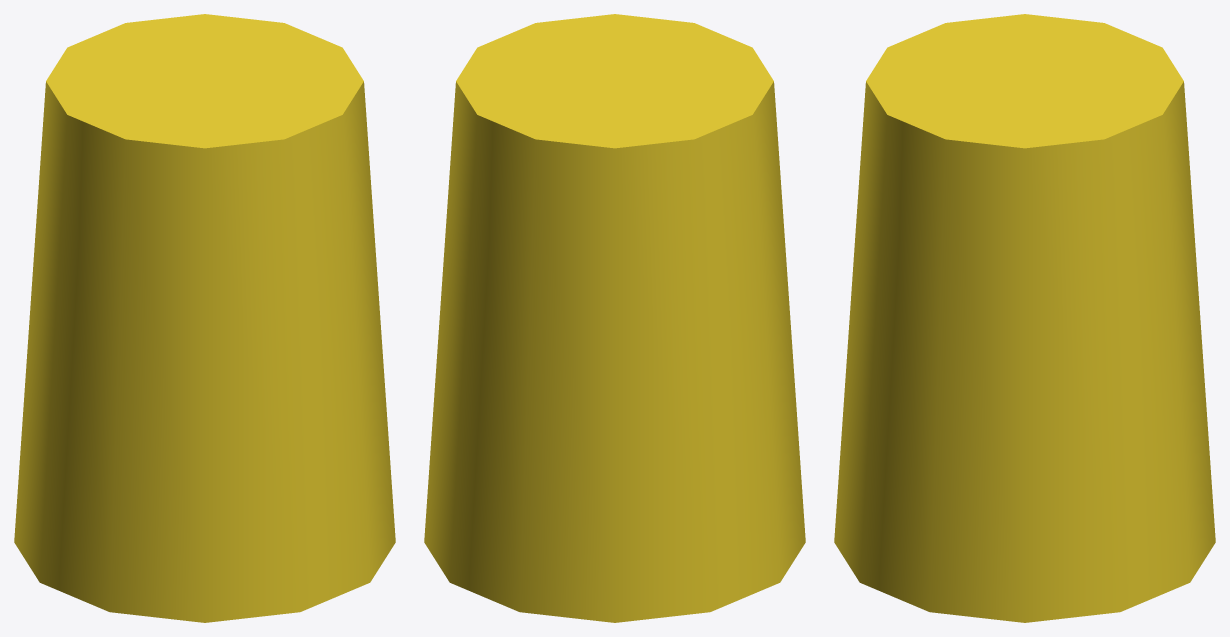
File: spill_kit.glb
3 views of the same model, side by side, from view 1: azimuth 30°, elevation 25°; view 2: azimuth 150°, elevation 25°; view 3: azimuth 270°, elevation 25° (orthographic).
Visible parts, largest first — view 1: spill_kit-node; view 2: spill_kit-node; view 3: spill_kit-node.
Part boxes in pixels (x1,y1,x2,y2): spill_kit-node: [14, 14, 395, 622]; spill_kit-node: [424, 14, 805, 622]; spill_kit-node: [834, 14, 1215, 622].
Bounding box in the file's own units: 0.6 × 0.8 × 0.6.
